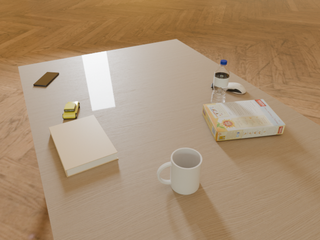book: (49, 115, 118, 177)
bottle: (211, 60, 230, 103)
box: (202, 99, 285, 141)
cup: (157, 148, 202, 195)
mouse: (226, 83, 246, 94)
phone: (33, 72, 59, 86)
toy_car: (63, 102, 80, 119)
